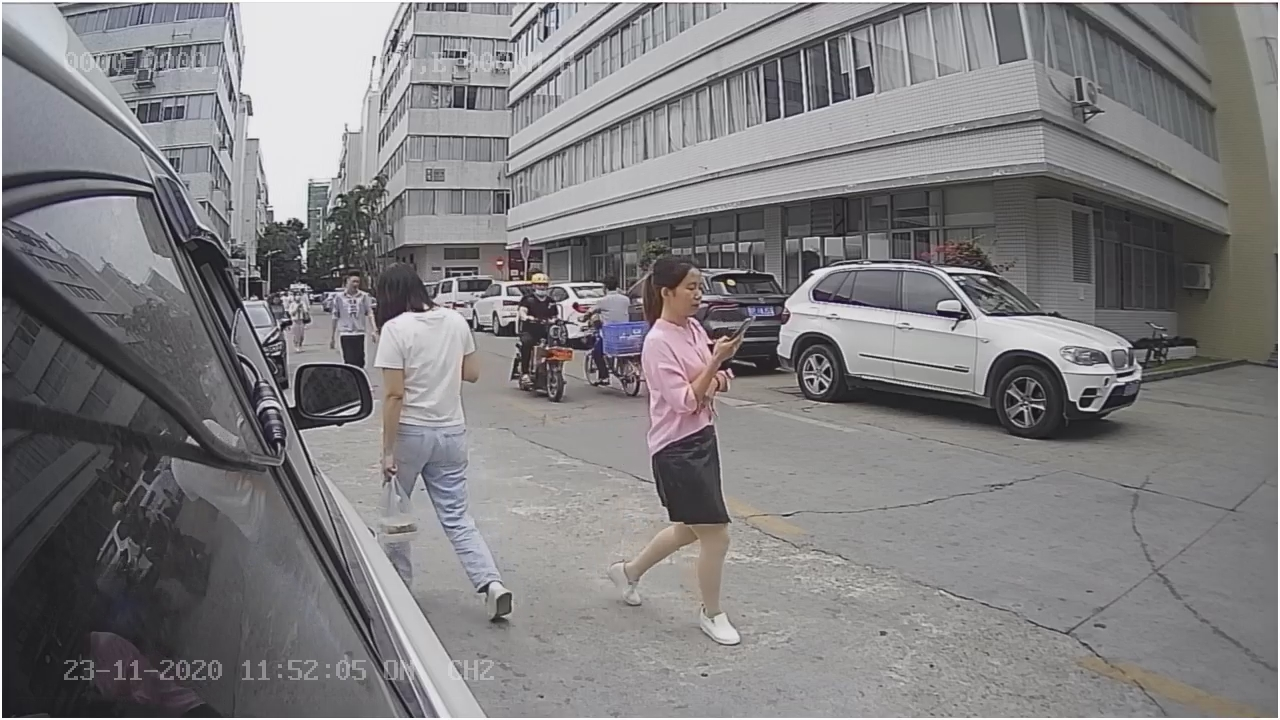person: (607, 248, 760, 646), (370, 262, 480, 437)
